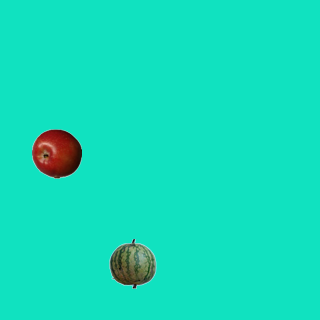Apple Braeburn: (31, 128, 81, 178)
Watermelon: (107, 238, 157, 288)
